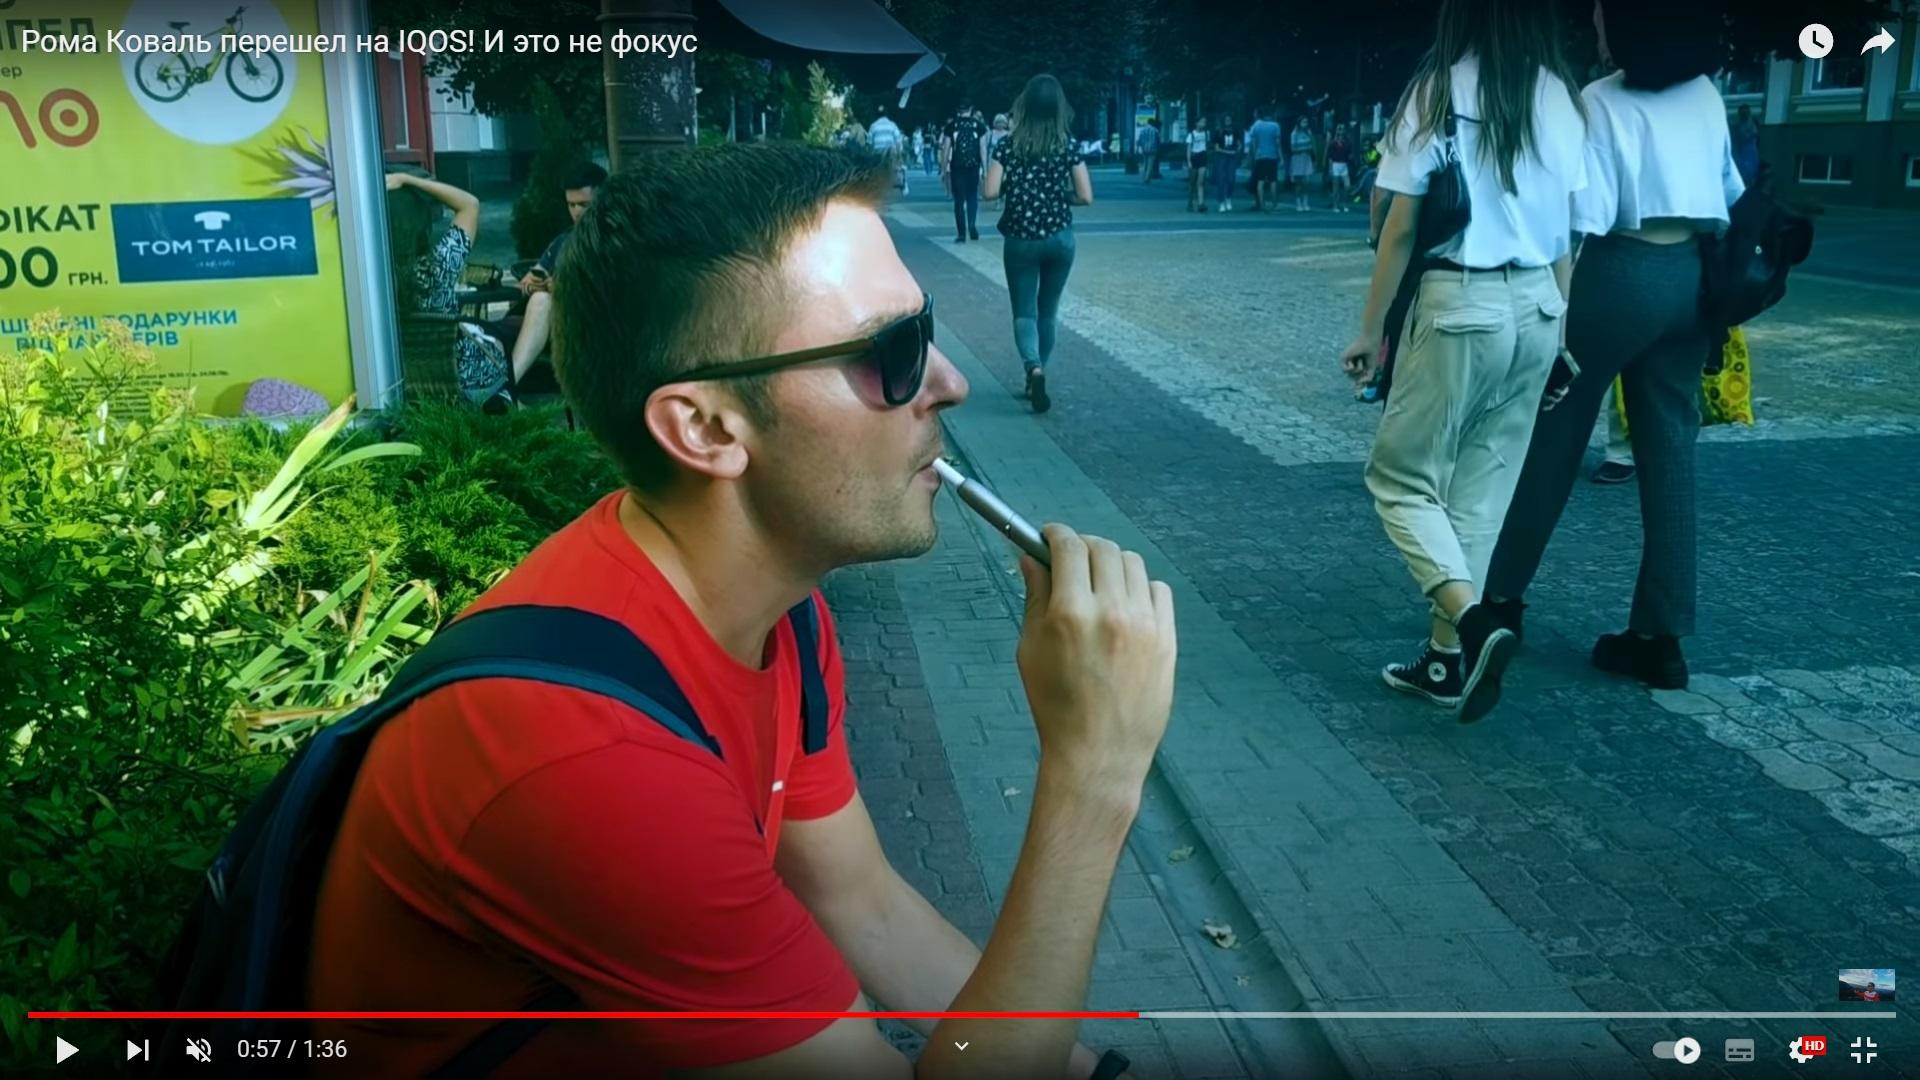iqos: (932, 458, 1051, 570)
